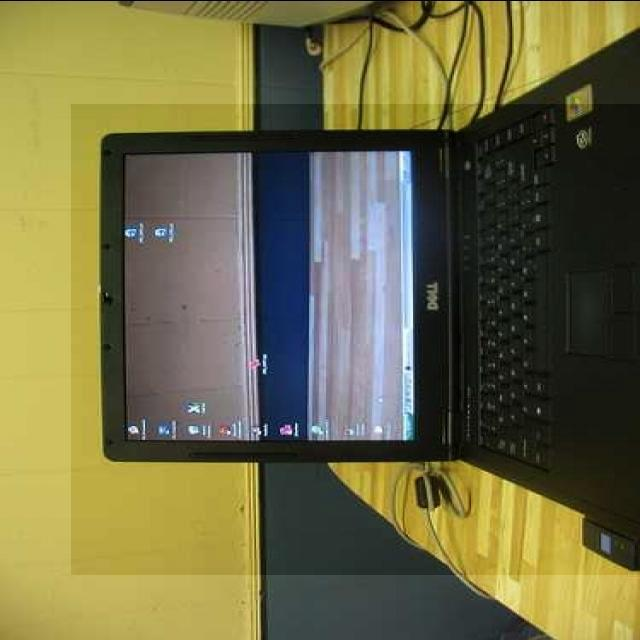-keyboard-: (71, 104, 640, 575)
